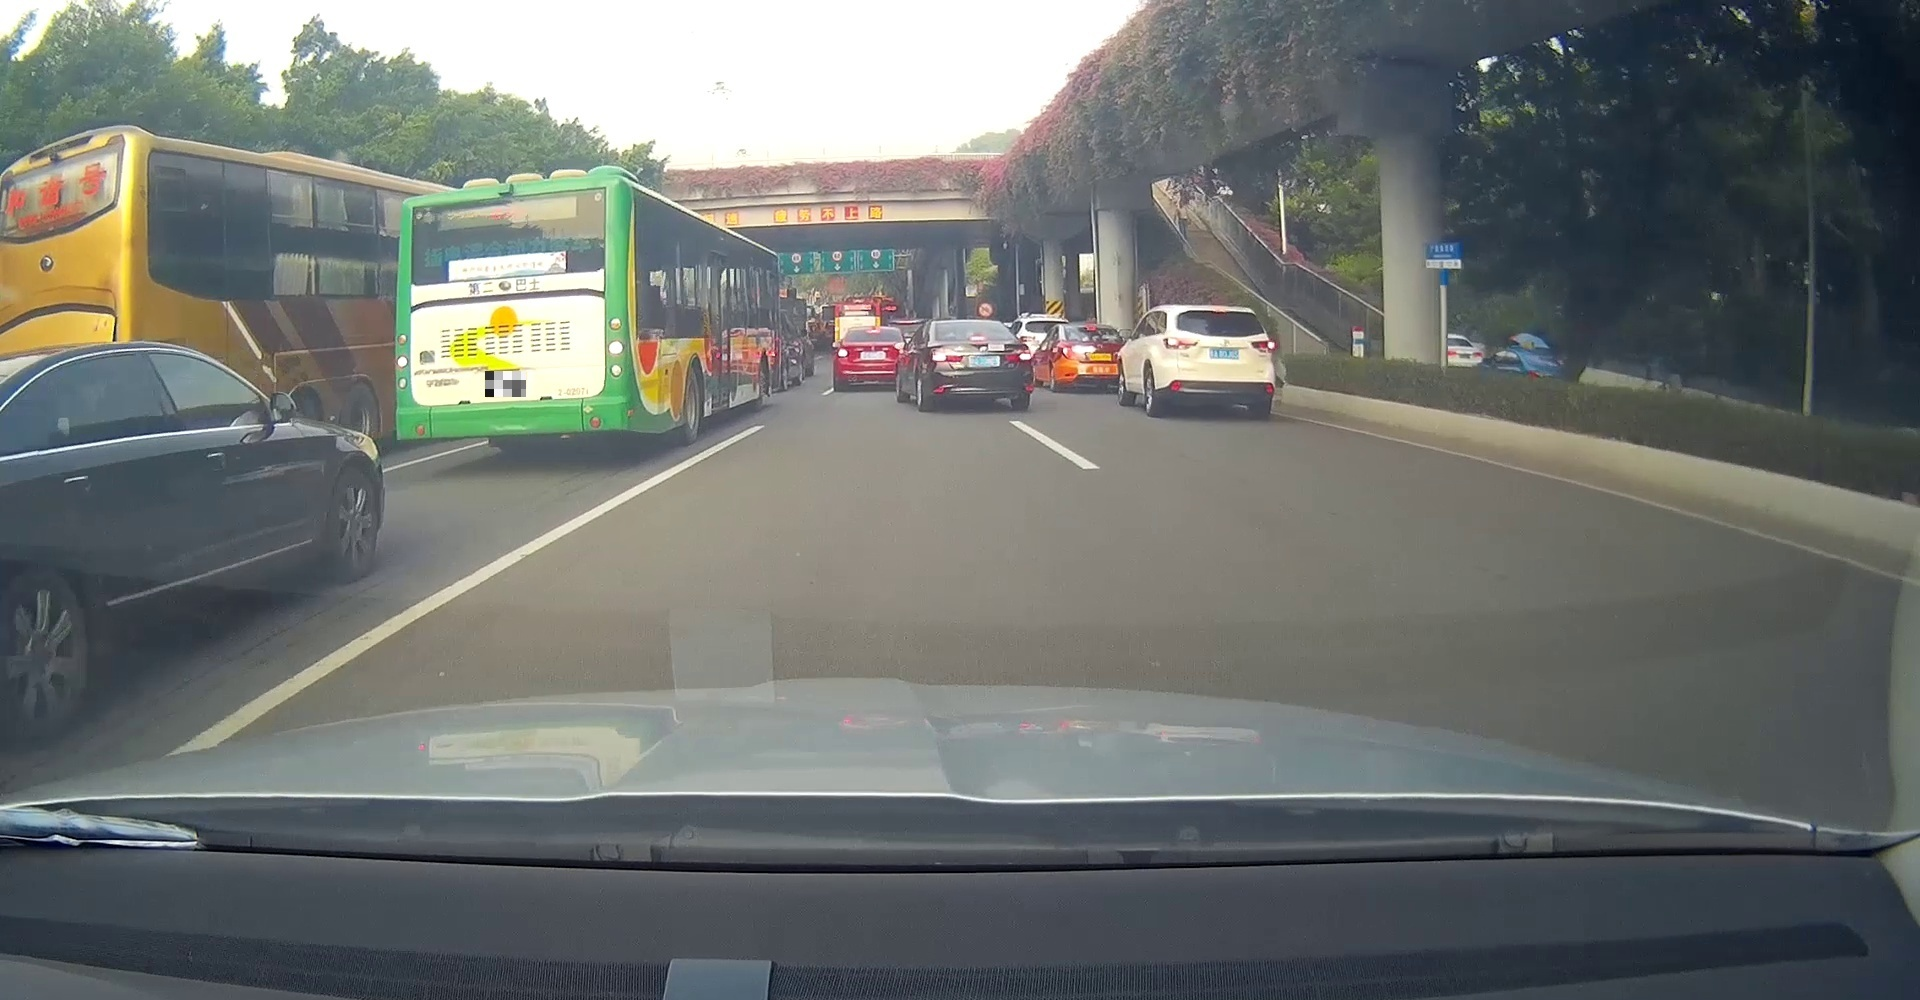L_light: (396, 334, 409, 390), (1163, 338, 1197, 350), (932, 352, 963, 362)
R_light: (606, 317, 623, 377), (1006, 352, 1031, 362), (1251, 341, 1272, 352)
T_light: (491, 206, 521, 218), (1214, 308, 1227, 313), (970, 338, 985, 341)
day-brake: (395, 176, 626, 464), (1161, 306, 1275, 419), (928, 321, 1032, 409)
plate_1: (485, 371, 526, 397)
